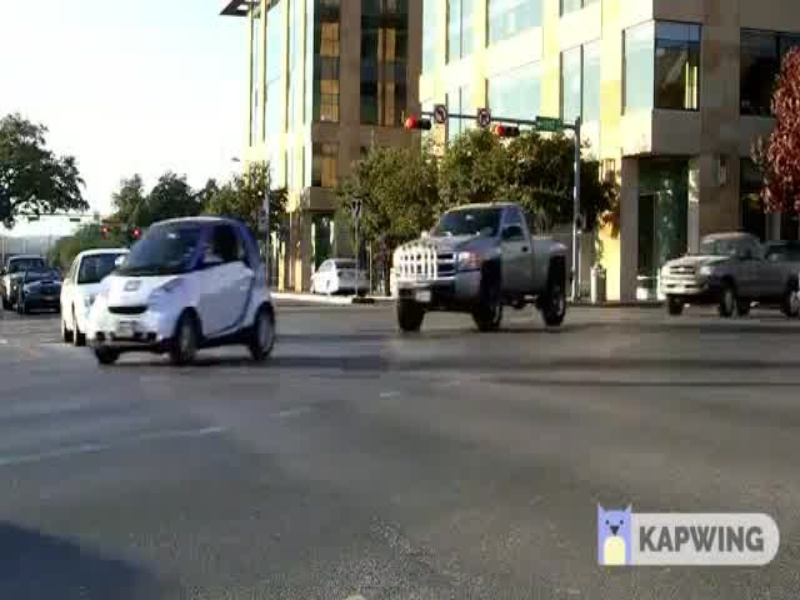car: (81, 213, 287, 366), (304, 252, 374, 303)
truck: (383, 199, 576, 338), (656, 214, 798, 334)
